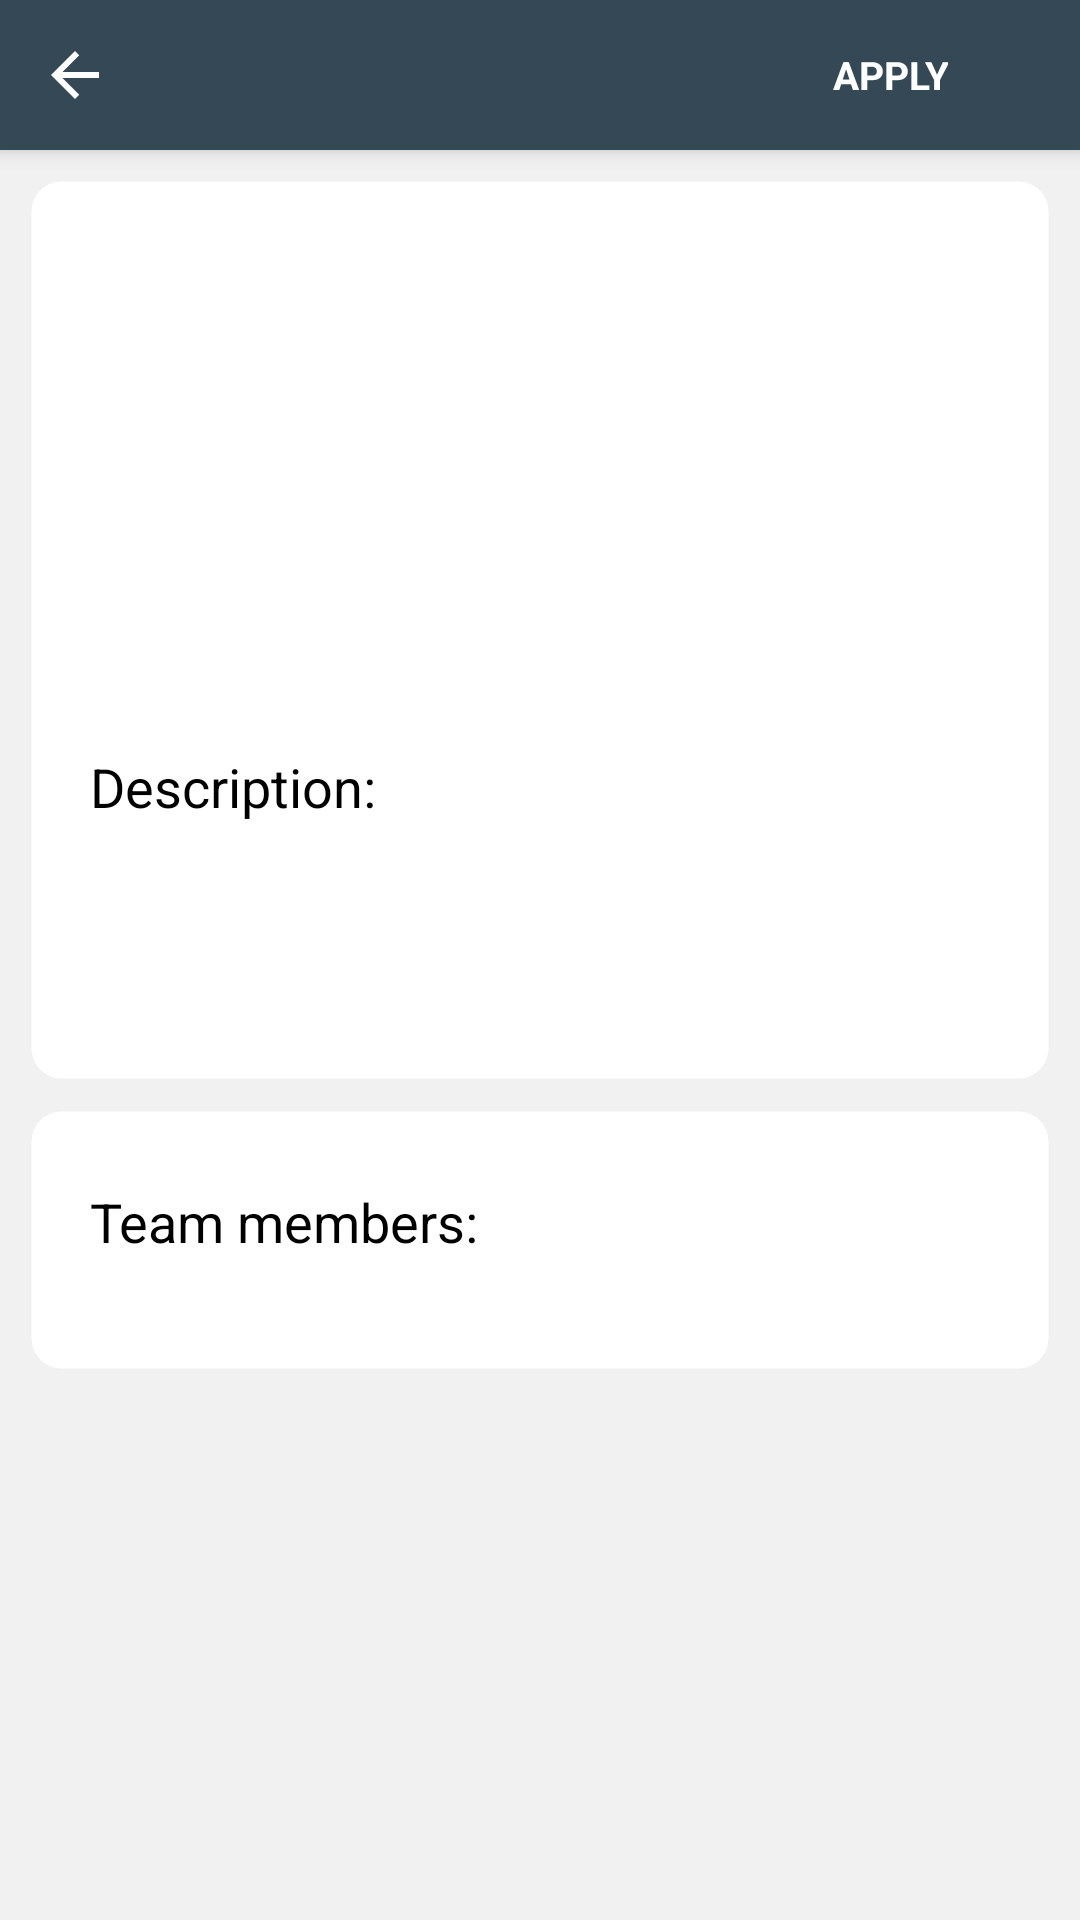

Icon click points for this 1080px×1920px phone screenshot, format [x,y]:
back: [75,75]
